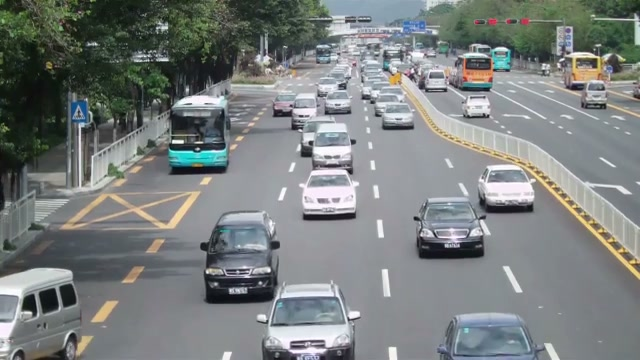bus: (167, 94, 231, 174), (560, 51, 603, 89), (491, 47, 512, 71)
car: (256, 282, 361, 359), (0, 266, 82, 359), (200, 210, 280, 303), (436, 312, 547, 360), (413, 196, 491, 259), (299, 167, 358, 220), (477, 164, 536, 213), (310, 130, 355, 173), (298, 117, 341, 157), (290, 95, 319, 130), (380, 103, 415, 129), (579, 80, 608, 109), (374, 93, 408, 117), (460, 94, 492, 118), (324, 90, 352, 114), (272, 92, 297, 117), (632, 81, 640, 98)
truck: (560, 51, 603, 89), (451, 53, 494, 91)
